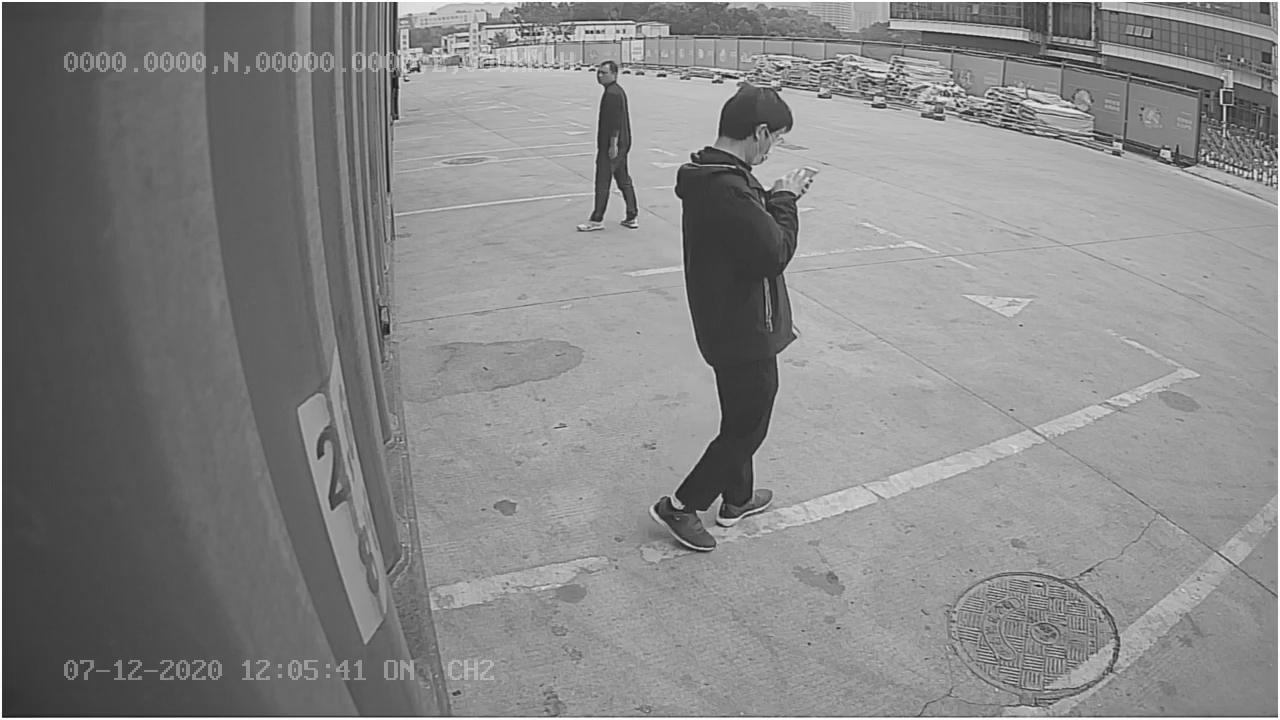person: (646, 77, 815, 551)
